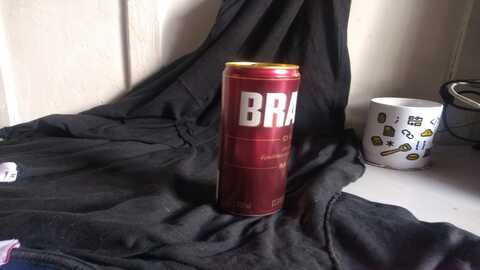duplo_malte: (216, 63, 303, 218)
